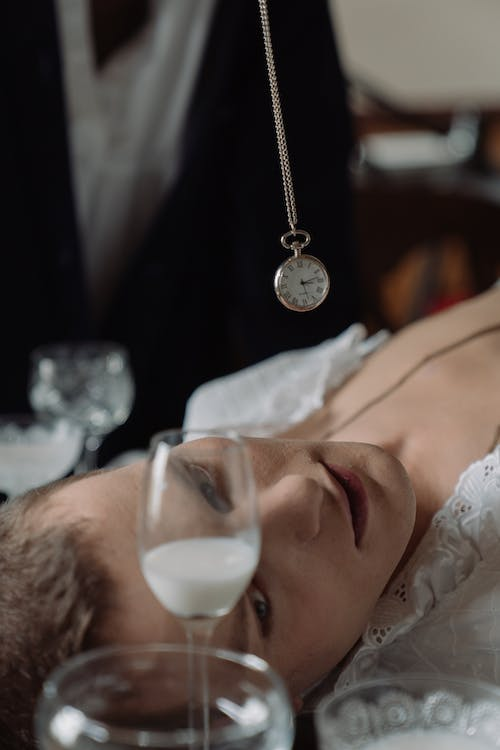alcohol: (136, 428, 263, 750), (30, 640, 298, 750), (311, 669, 500, 750), (27, 339, 137, 476), (0, 407, 88, 501)
